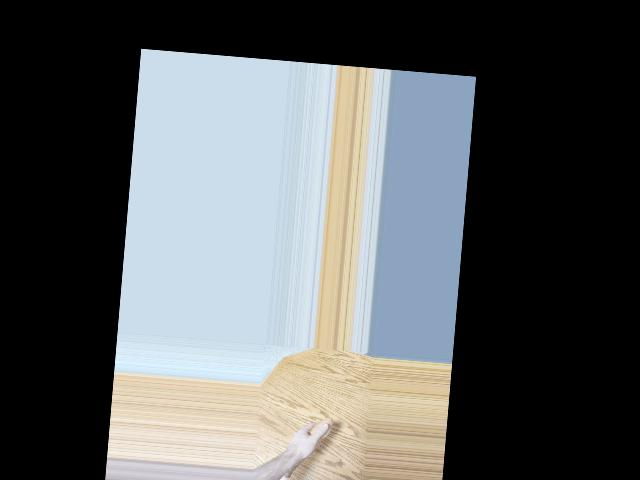sweet_potato: (284, 413, 333, 480)
